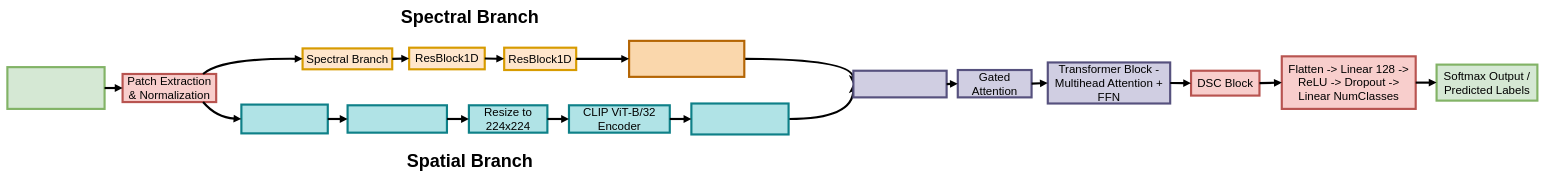
Image size: 1544x178. Some labels were removed from this diagram. Each missing label, with the centre of its shape:
"AdaptiveAvgPool1D -> Feature 64" goes at [686,59].
"Attention Fusion" goes at [900,83].
"Input Hyperspectral Cube HxWxB" goes at [55,88].
"Linear Projection -> Feature 64" goes at [739,118].
"RGB Selection from HSI" goes at [397,119].
"Spatial Branch CLIP" goes at [284,118].
